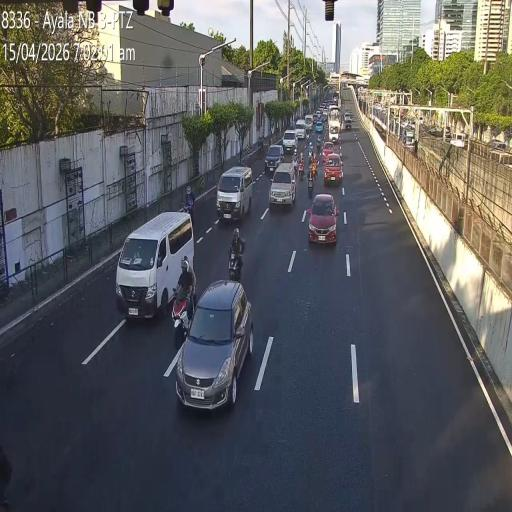Car: (175, 280, 252, 411), (115, 208, 193, 318), (216, 163, 253, 222), (307, 192, 340, 245), (269, 162, 297, 208), (323, 152, 343, 186), (265, 143, 284, 173), (281, 128, 297, 154), (322, 141, 336, 163), (328, 120, 339, 145), (294, 119, 306, 140), (316, 120, 322, 134)
Motor: (170, 278, 194, 342), (228, 245, 243, 281), (307, 164, 314, 194), (312, 150, 318, 178), (292, 150, 298, 174), (300, 151, 304, 181), (316, 134, 321, 153), (308, 140, 312, 162), (306, 126, 310, 144)
Not Accident: (168, 270, 252, 413), (305, 160, 336, 244), (270, 145, 299, 210), (322, 135, 342, 187)
